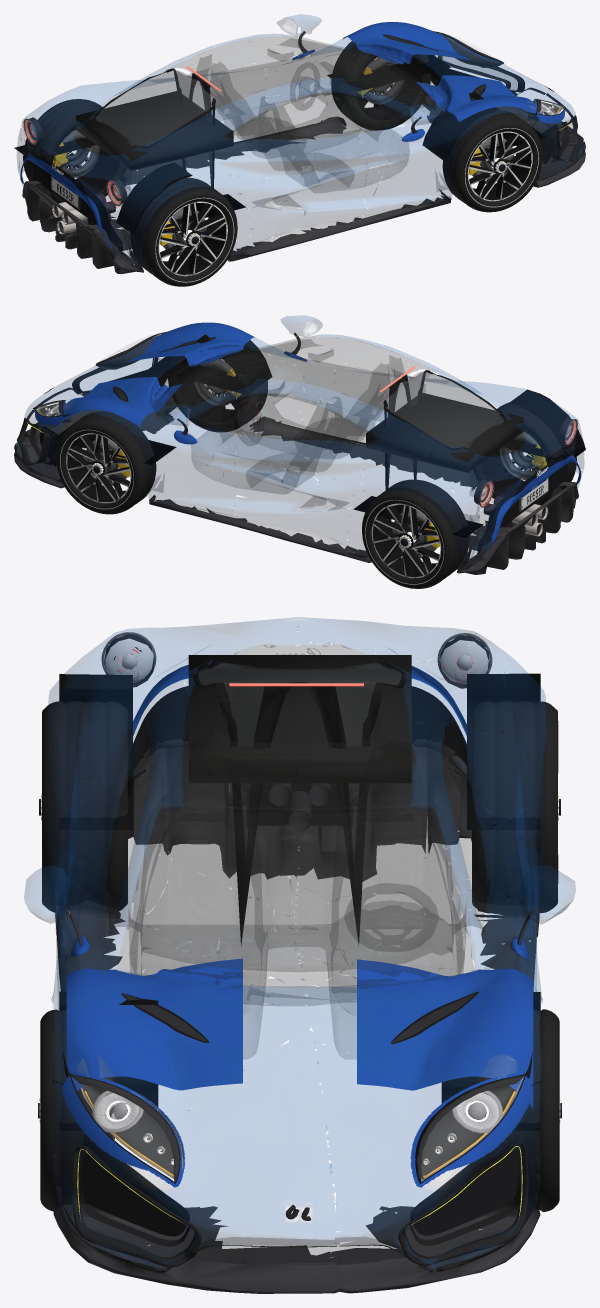
Rendered from car_mobile.glb.
3 renders of one model, top to bottom at view 1: azimuth 30°, elevation 25°; view 2: azimuth 150°, elevation 25°; view 3: azimuth 270°, elevation 25°, orthographic. The views are drawn at different scales.
Parts seen in each view (by area): view 1: Part50, Wheel_RR, Part07, Part00, Wheel_FR, Part49, Part32, Wheel_FL, Wheel_RL, Part48, Part03, Part33 (+6 smaller); view 2: Part50, Wheel_RL, Part07, Wheel_FL, Part00, Part49, Part32, Wheel_FR, Wheel_RR, Part48, Part33, Part16 (+5 smaller); view 3: Part50, Part00, Part07, Wheel_RL, Wheel_RR, Part32, Part48, Part49, Part33, Wheel_FL, Wheel_FR, Part03 (+10 smaller).
Part boxes in pixels (x1=…): Part50: x1=17, y1=14, x2=585, y2=274; Wheel_RR: x1=130, y1=177, x2=237, y2=286; Part07: x1=76, y1=91, x2=233, y2=170; Part00: x1=20, y1=22, x2=566, y2=247; Wheel_FR: x1=442, y1=109, x2=542, y2=212; Part49: x1=14, y1=54, x2=546, y2=235; Part32: x1=94, y1=68, x2=215, y2=188; Wheel_FL: x1=331, y1=41, x2=430, y2=130; Wheel_RL: x1=23, y1=99, x2=126, y2=203; Part48: x1=32, y1=68, x2=559, y2=251; Part03: x1=438, y1=56, x2=582, y2=162; Part33: x1=438, y1=55, x2=585, y2=180; Part50: x1=14, y1=315, x2=584, y2=574; Wheel_RL: x1=362, y1=479, x2=469, y2=588; Part07: x1=366, y1=393, x2=523, y2=472; Wheel_FL: x1=56, y1=411, x2=156, y2=514; Part00: x1=33, y1=322, x2=580, y2=550; Part49: x1=52, y1=334, x2=585, y2=537; Part32: x1=383, y1=370, x2=505, y2=489; Wheel_FR: x1=168, y1=356, x2=267, y2=432; Wheel_RR: x1=473, y1=402, x2=576, y2=505; Part48: x1=39, y1=369, x2=568, y2=553; Part33: x1=14, y1=357, x2=158, y2=481; Part16: x1=35, y1=335, x2=158, y2=422; Part50: x1=24, y1=617, x2=575, y2=1293; Part00: x1=62, y1=665, x2=533, y2=1187; Part07: x1=188, y1=655, x2=411, y2=783; Wheel_RL: x1=472, y1=701, x2=560, y2=913; Wheel_RR: x1=39, y1=701, x2=127, y2=912; Part32: x1=192, y1=661, x2=405, y2=944; Part48: x1=82, y1=686, x2=517, y2=1236; Part49: x1=59, y1=673, x2=540, y2=1130; Part33: x1=52, y1=1142, x2=540, y2=1272; Wheel_FL: x1=487, y1=1009, x2=561, y2=1211; Wheel_FR: x1=38, y1=1009, x2=112, y2=1211; Part03: x1=75, y1=1132, x2=518, y2=1263.
Bounding box in the file's own units: 4.39 × 1.23 × 2.06.
Materials: 69 (4 with a texture image).
